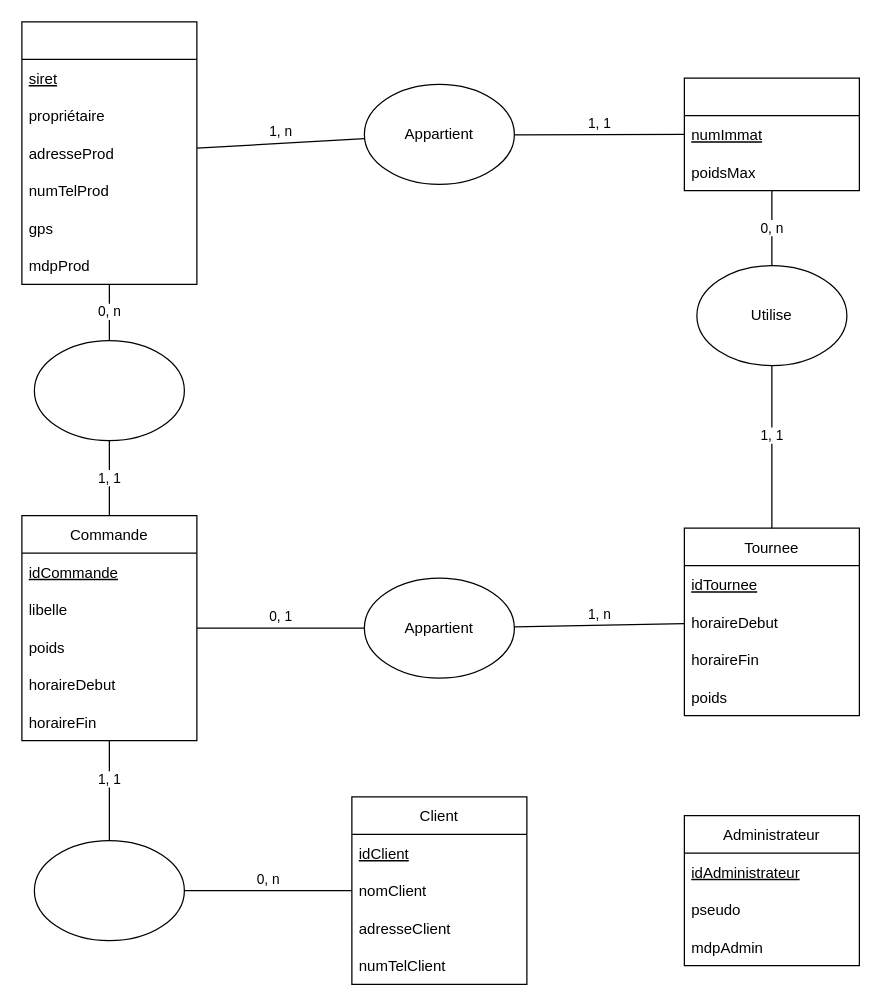
This 881x1006 diagram has some shape labels left out. The shapes that lost their labels are listed below. From the top down, each one's box as (x1, y1, x2, y2) in pixels, then its label:
(21, 21, 197, 284): Producteur
(683, 77, 859, 191): Vehicule
(33, 339, 184, 441): Livre
(33, 839, 184, 941): effectue
